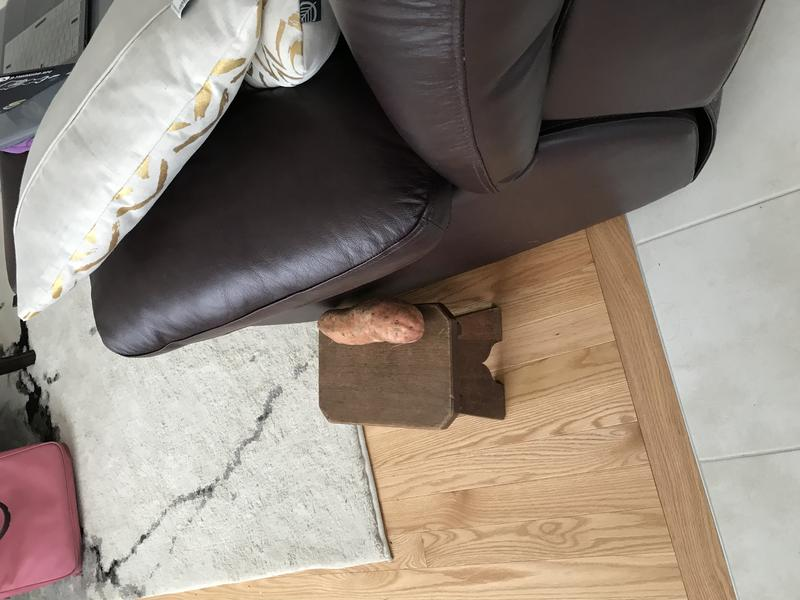sweet_potato: (308, 294, 430, 356)
